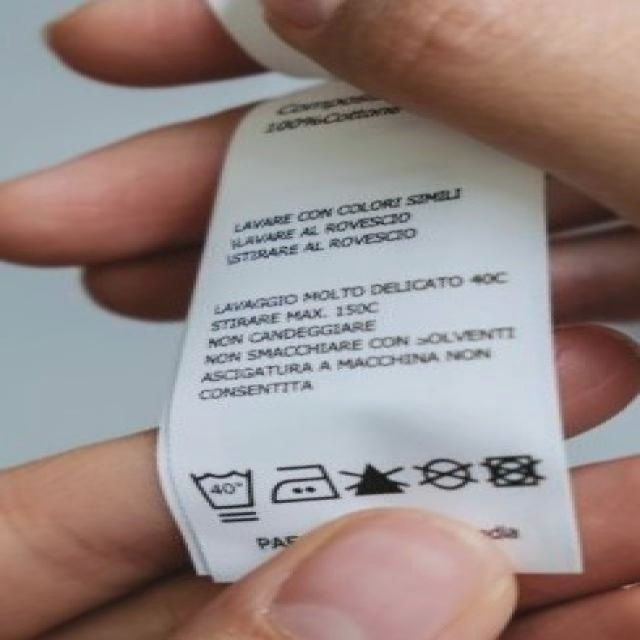40C: (194, 462, 259, 525)
DN_bleach: (346, 454, 411, 504)
DN_dry_clean: (417, 454, 475, 495)
DN_tumble_dry: (484, 452, 544, 493)
iron_medium: (269, 456, 344, 513)
